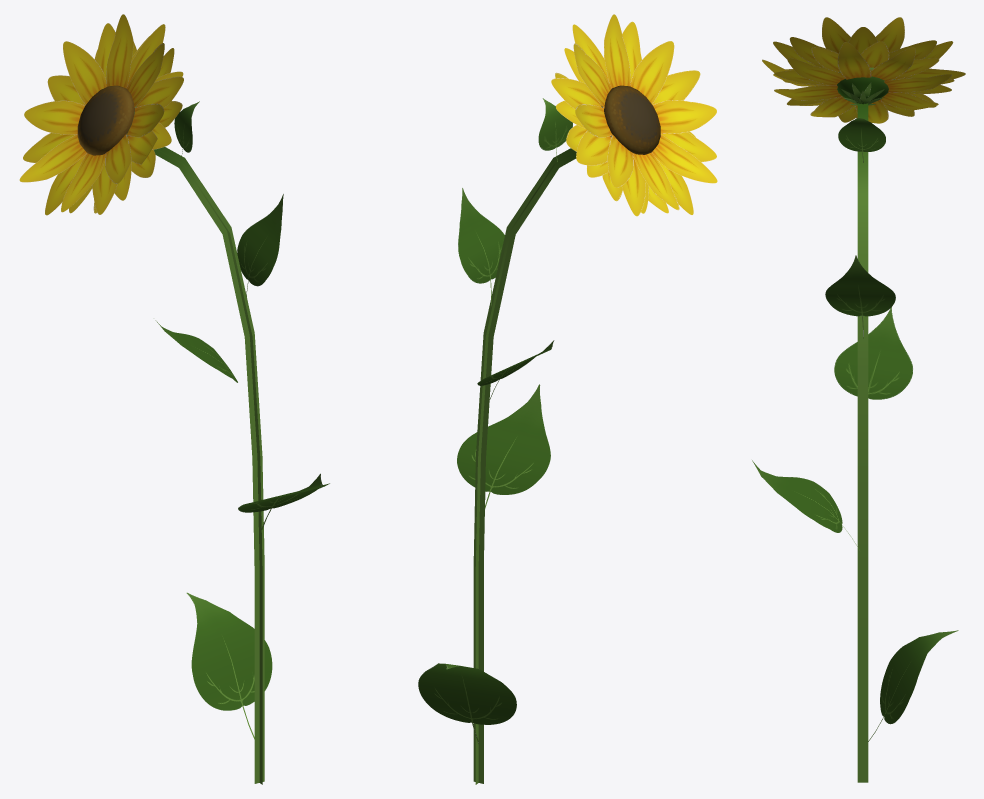
Rendered from Sunflower 3D Model.glb.
3 views of the same model, side by side, from view 1: azimuth 30°, elevation 25°; view 2: azimuth 150°, elevation 25°; view 3: azimuth 270°, elevation 25° (orthographic). The views are drawn at different scales.
Parts seen in each view (by area): view 1: pPlane59, pPlane58, pPlane3, pPlane60, pSphere1, pPlane61; view 2: pPlane59, pPlane58, pPlane3, pPlane60, pSphere1, pPlane61; view 3: pPlane59, pPlane61, pPlane3, pPlane60, pPlane58, pSphere1.
Part boxes in pixels (bbox=[...]): pPlane59: bbox=[155, 101, 329, 739]; pPlane58: bbox=[19, 14, 164, 212]; pPlane3: bbox=[154, 147, 264, 784]; pPlane60: bbox=[23, 23, 183, 215]; pSphere1: bbox=[77, 85, 136, 155]; pPlane61: bbox=[42, 36, 183, 213]; pPlane59: bbox=[418, 98, 572, 744]; pPlane58: bbox=[573, 14, 717, 210]; pPlane3: bbox=[473, 148, 576, 784]; pPlane60: bbox=[551, 21, 716, 216]; pSphere1: bbox=[601, 85, 660, 154]; pPlane61: bbox=[555, 48, 695, 213]; pPlane59: bbox=[752, 117, 958, 741]; pPlane61: bbox=[774, 41, 952, 123]; pPlane3: bbox=[857, 103, 868, 782]; pPlane60: bbox=[762, 27, 965, 118]; pPlane58: bbox=[773, 17, 954, 86]; pSphere1: bbox=[837, 67, 894, 104].
Size of the model in its own units: 12.8 by 35.73 by 9.83.
Materials: 2 (2 with a texture image).
